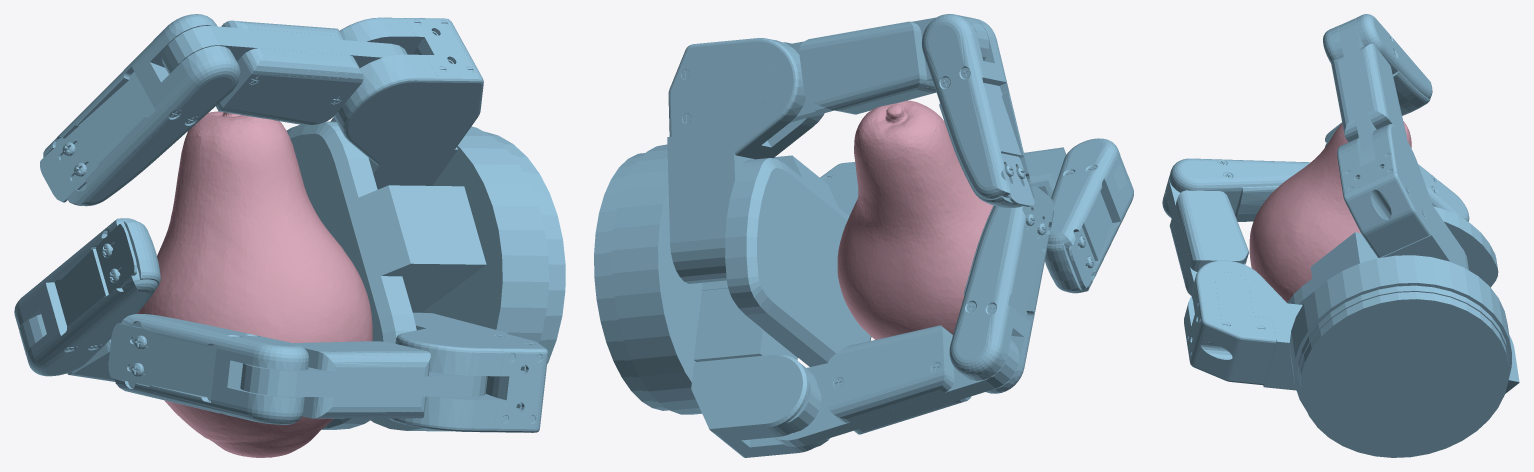
3 views of the same model, side by side, from view 1: azimuth 30°, elevation 25°; view 2: azimuth 150°, elevation 25°; view 3: azimuth 270°, elevation 25° (orthographic). The views are drawn at different scales.
Visible parts, largest first — view 1: world; view 2: world; view 3: world.
Boxes of the visible parts, x1,y1,x2,y2 form: world: [14, 14, 565, 457]; world: [594, 14, 1133, 457]; world: [1162, 14, 1519, 457].
Bounding box in the file's own units: 0.1554 × 0.1546 × 0.1447.
